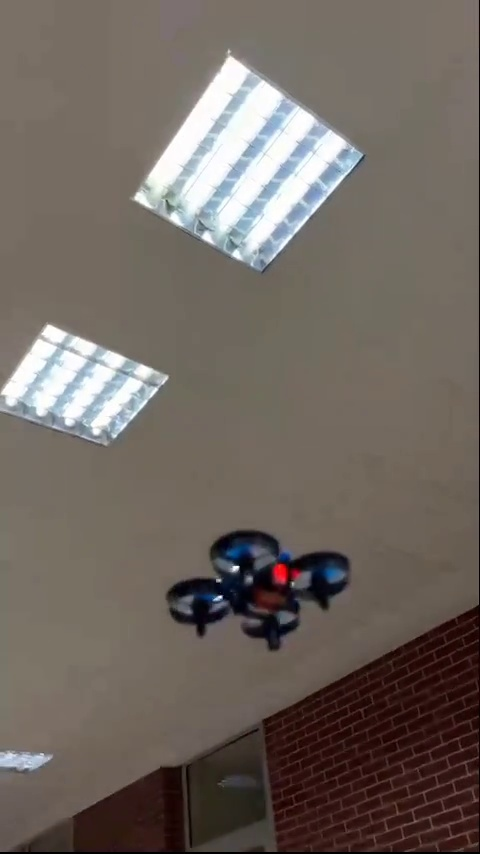drone: (174, 527, 348, 644)
